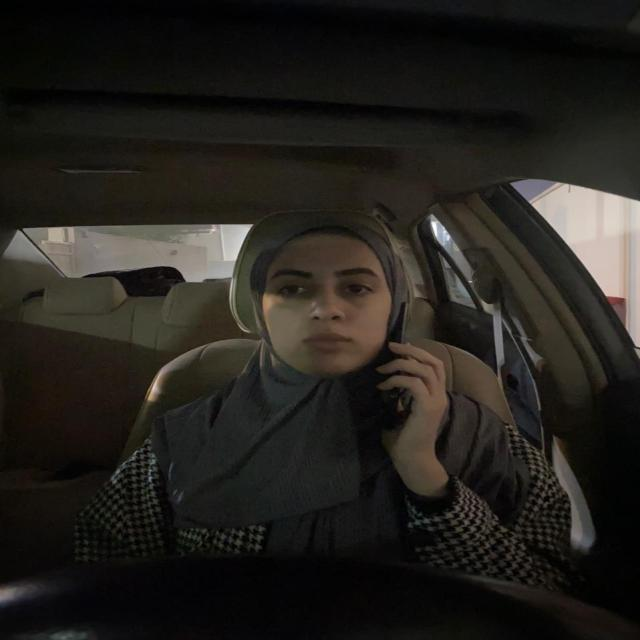phone: (394, 298, 414, 400)
